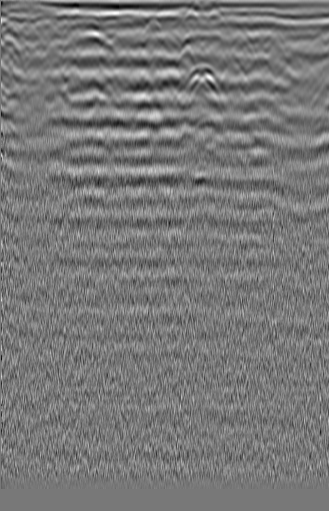가스: (187, 146, 225, 188)
상수: (276, 45, 320, 78)
오수: (0, 31, 25, 79)
우수: (133, 17, 176, 60)
